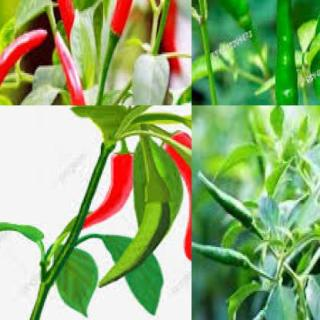green_chilli: (96, 198, 176, 290), (197, 170, 255, 233), (273, 0, 305, 105), (192, 0, 259, 45), (192, 238, 250, 275)
